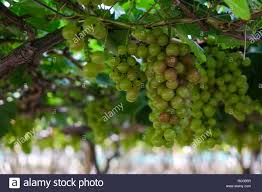grapes: (139, 26, 193, 143), (203, 54, 250, 126), (112, 47, 141, 97)
